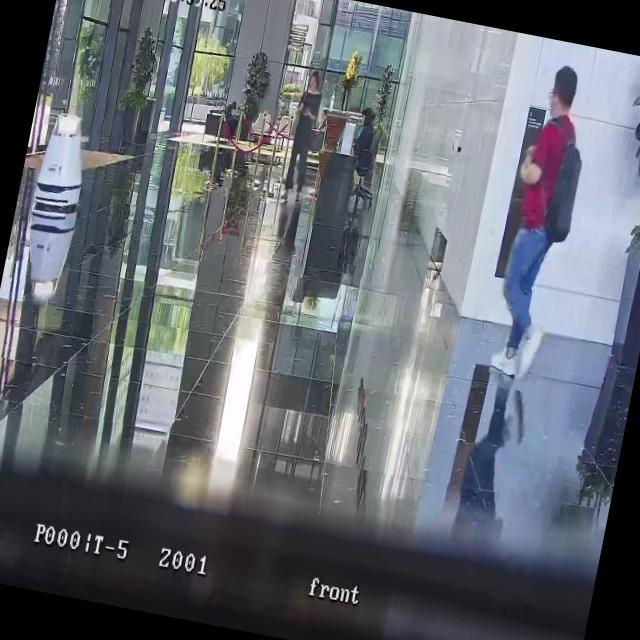person: (483, 61, 594, 372), (279, 68, 328, 205), (348, 106, 379, 176), (215, 98, 242, 140)
